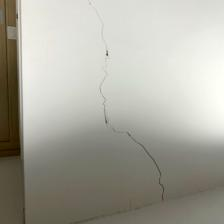Medium: (74, 6, 175, 194)
